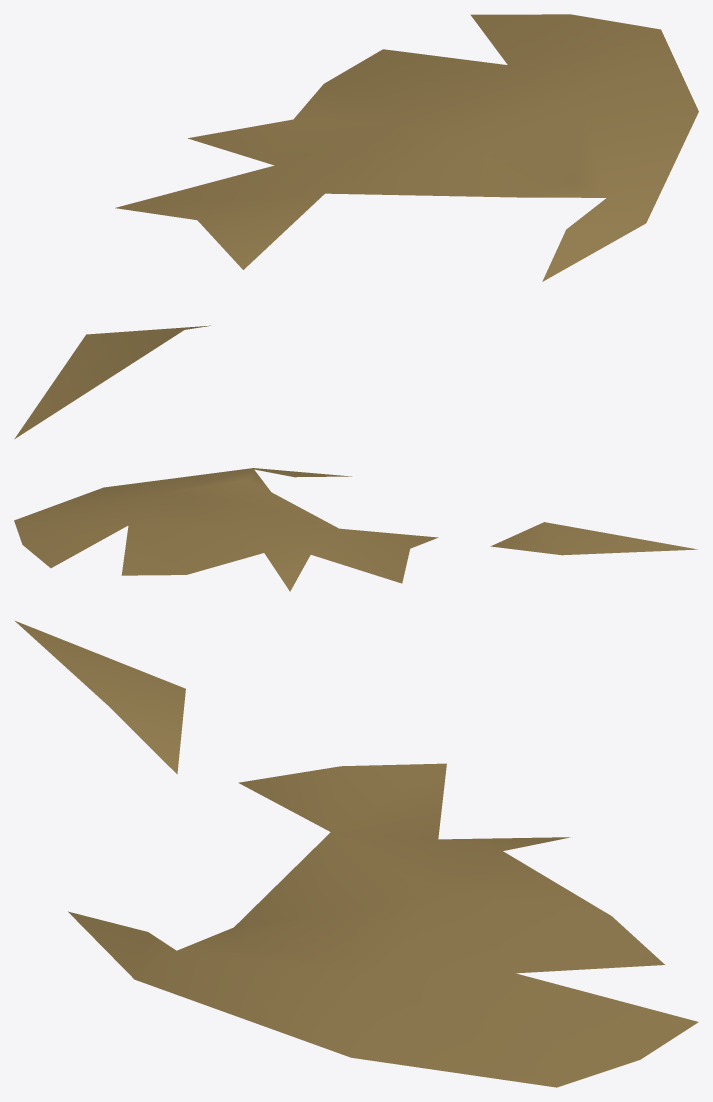
Rendered from EB_SandBar2_a4_GD.glb.
The picture shows the model from 3 angles, top to bottom: view 1: azimuth 30°, elevation 25°; view 2: azimuth 150°, elevation 25°; view 3: azimuth 270°, elevation 25°; orthographic projection. The views are drawn at different scales.
Visible parts, largest first — view 1: Sandbar2; view 2: Sandbar2; view 3: Sandbar2.
Boxes of the visible parts, x1,y1,x2,y2 form: Sandbar2: [14, 14, 698, 439]; Sandbar2: [14, 468, 697, 591]; Sandbar2: [15, 621, 698, 1087].
Size of the model in its own units: 51.34 by 2.3 by 30.99.
